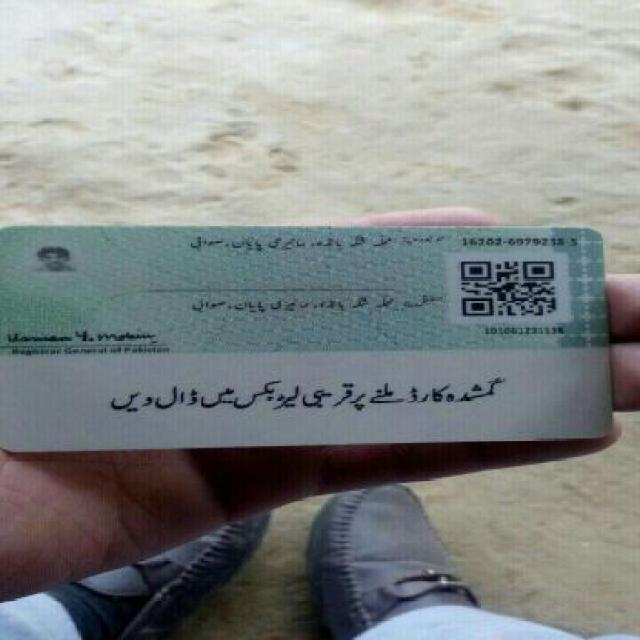Back: (8, 220, 617, 449)
